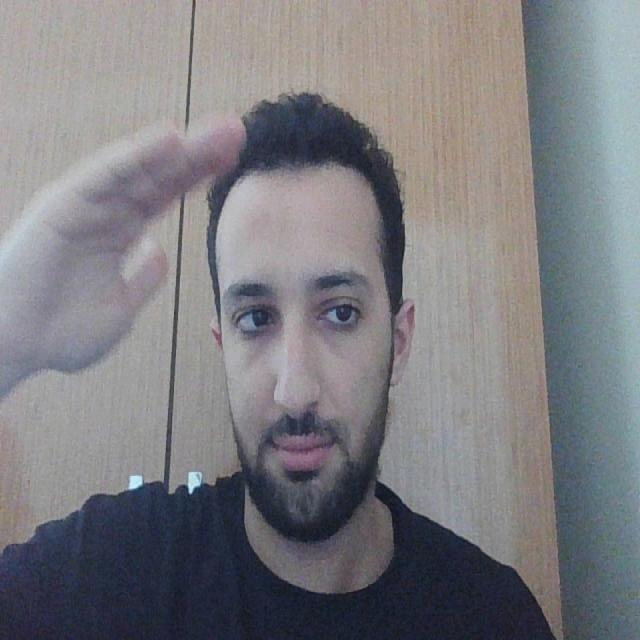Merhaba: (7, 78, 277, 470)
